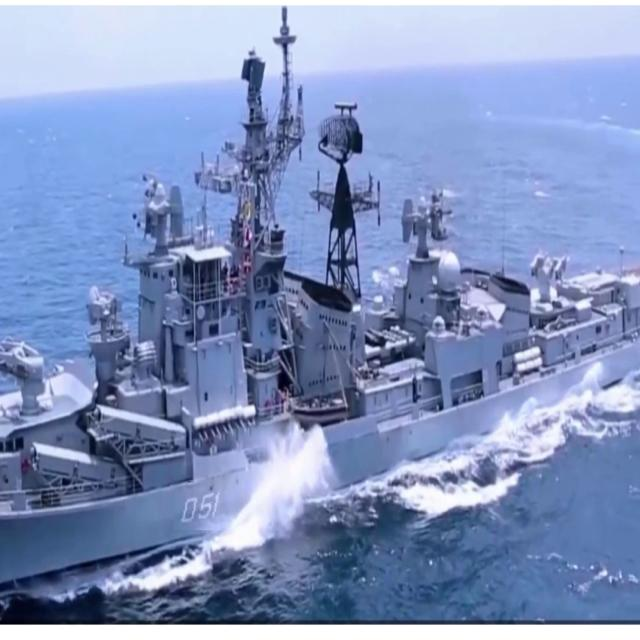OCR: (174, 480, 225, 530)
